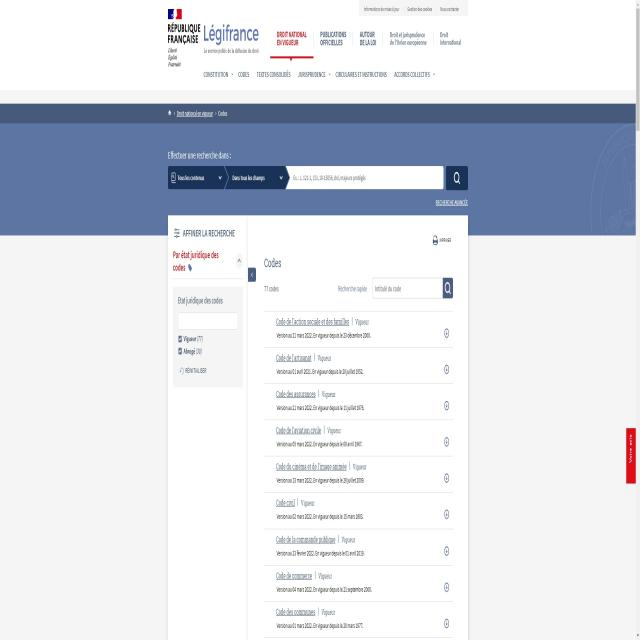menu-bar: (360, 1, 469, 22)
search: (286, 156, 474, 192), (372, 274, 453, 304), (180, 309, 240, 332)
tab-bar: (199, 59, 439, 91), (267, 23, 467, 60)
